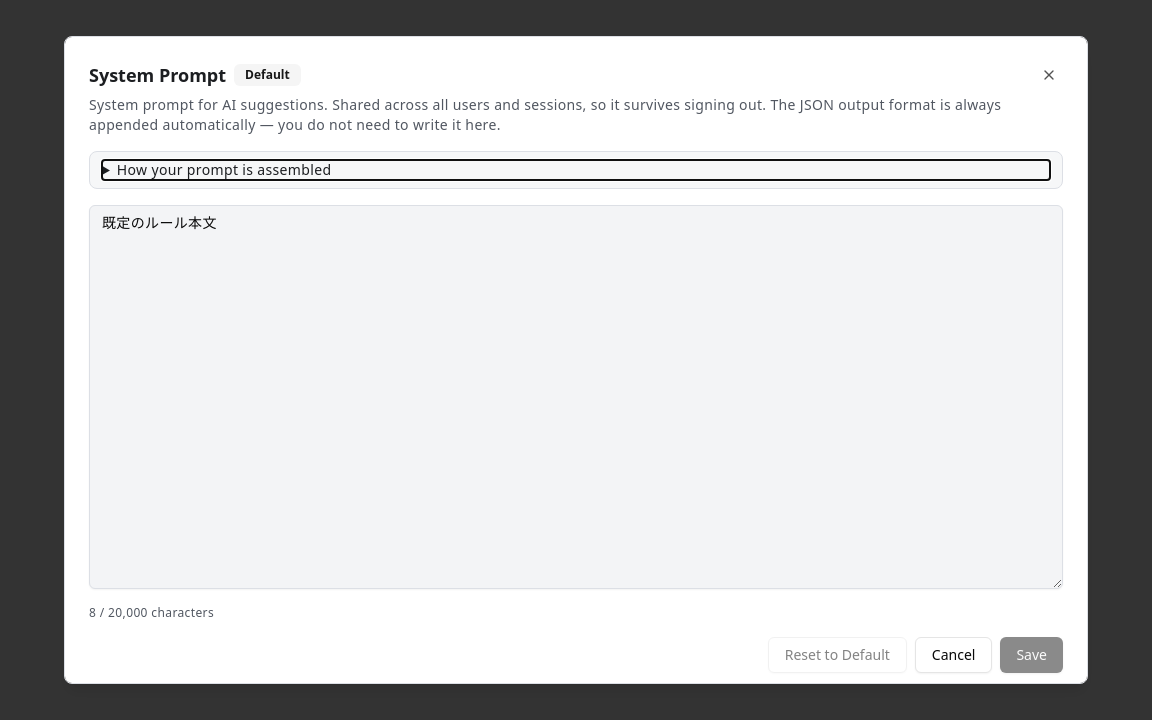
PromptSettingsDialog › keeps the edited text and shows the error when saving fails
Replace the text in the text box named "System prompt" with "編集後の本文" at (576, 397), box [89,205,1063,589]
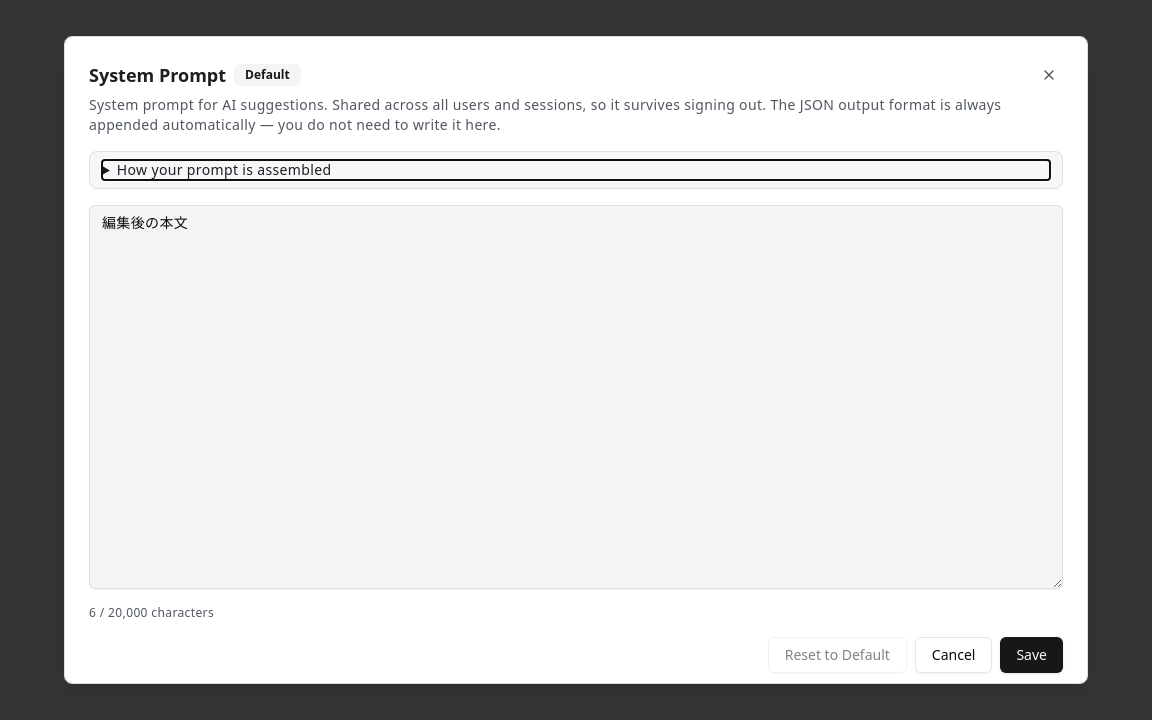
Click the button "Save" at (1032, 655), box [1000,637,1063,673]
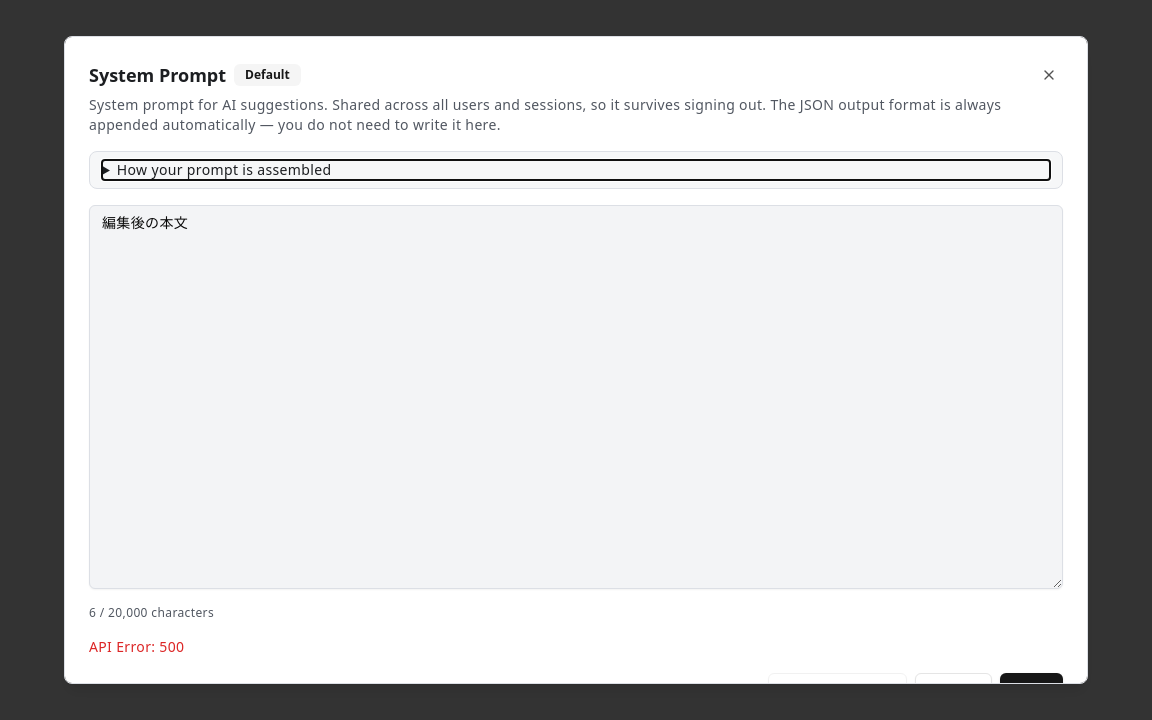
Check: the message reads "API Error: 500", box [89,637,184,656]
